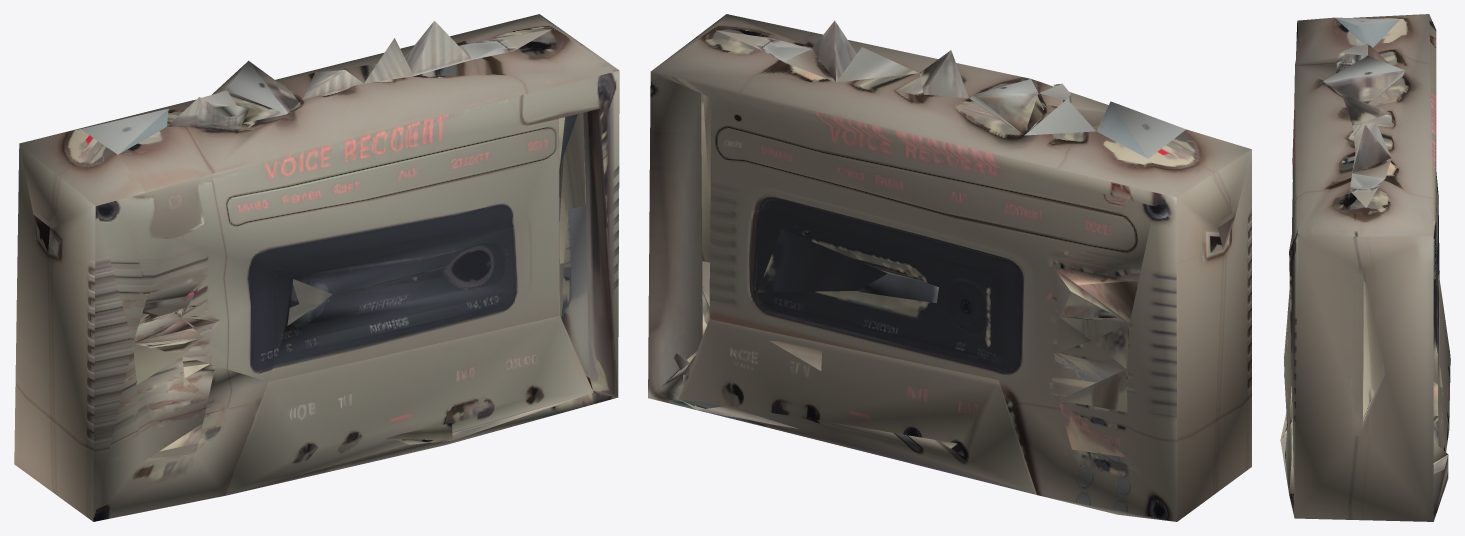
The model's file is ObjetoGrabadora1.fbx.
The picture shows the model from 3 angles, left to right: view 1: azimuth 30°, elevation 25°; view 2: azimuth 150°, elevation 25°; view 3: azimuth 270°, elevation 25°; orthographic projection. The views are drawn at different scales.
Parts seen in each view (by area): view 1: Mesh_0; view 2: Mesh_0; view 3: Mesh_0.
Boxes of the visible parts, left/top/right/bottom form: Mesh_0: left=14, top=14, right=619, bottom=521; Mesh_0: left=648, top=14, right=1251, bottom=521; Mesh_0: left=1280, top=14, right=1450, bottom=521.
Size of the model in its own units: 192 by 133 by 58.75.
1 material, 1 textured.
